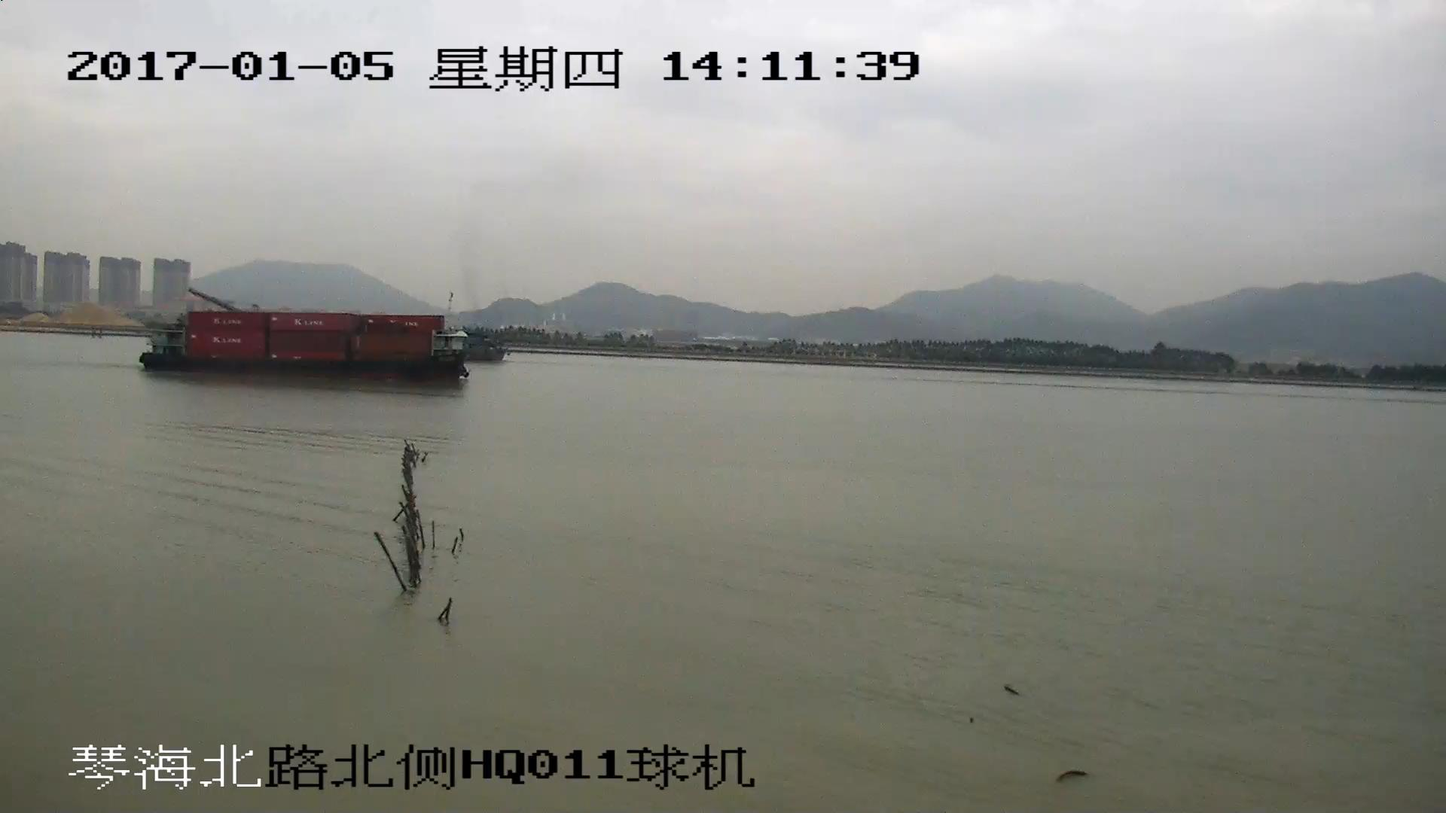container ship: (133, 304, 465, 382)
